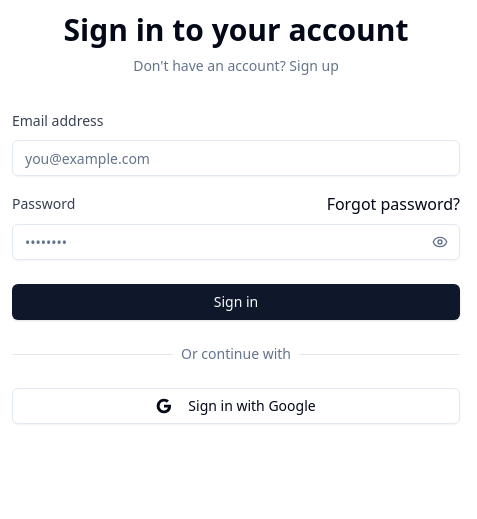
Scenario: LoginForm › Google OAuth › displays error message on failed Google login
What coordinates should you click on to do the following:
click the button "Sign in with Google"
I would click on:
 (236, 406)
Its box is [12,388,460,424].
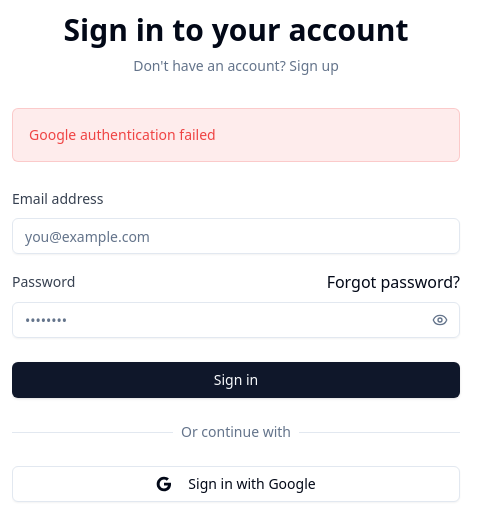
Expected: the text "Google authentication failed" is shown, [29,125,216,144]
